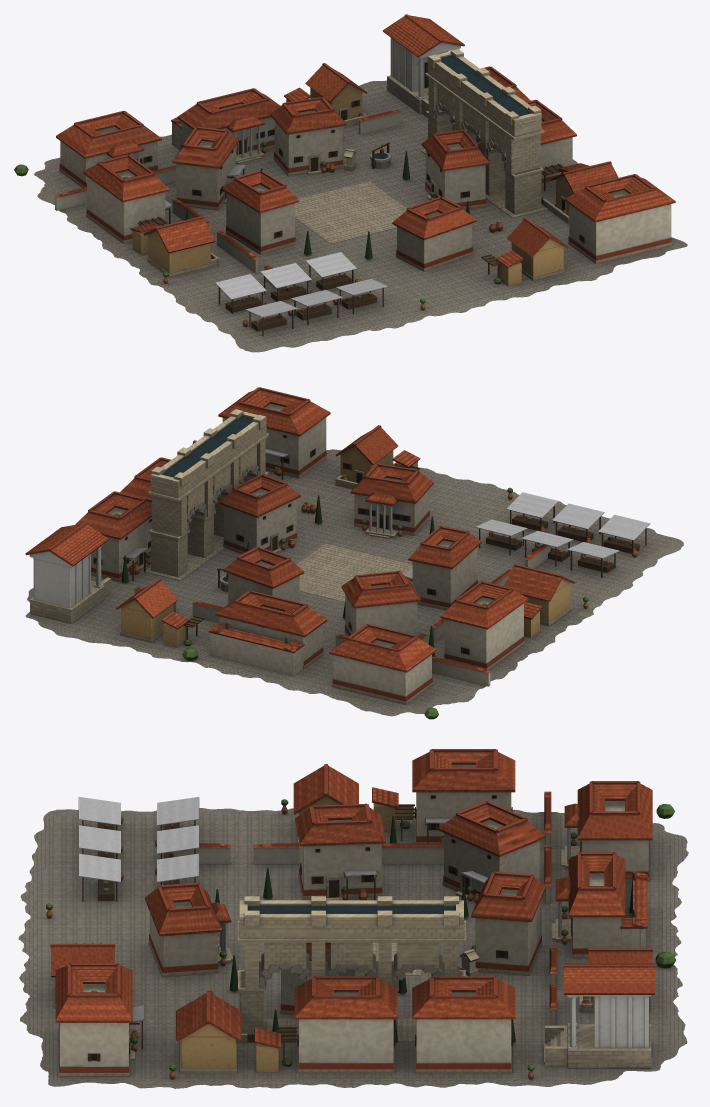
The model's file is classical-town-medium-b-europe.glb.
3 views of the same model, one above another, from view 1: azimuth 30°, elevation 25°; view 2: azimuth 150°, elevation 25°; view 3: azimuth 270°, elevation 25° (orthographic). The views are drawn at different scales.
Visible parts, largest first — view 1: LOD0; view 2: LOD0; view 3: LOD0.
Part boxes in pixels (bbox=[...]): LOD0: bbox=[14, 14, 687, 352]; LOD0: bbox=[25, 387, 683, 719]; LOD0: bbox=[18, 749, 688, 1088].
Size of what is drawn, in the model's own units: 6.03 by 1.26 by 6.09.
Materials: 3 (3 with a texture image).
